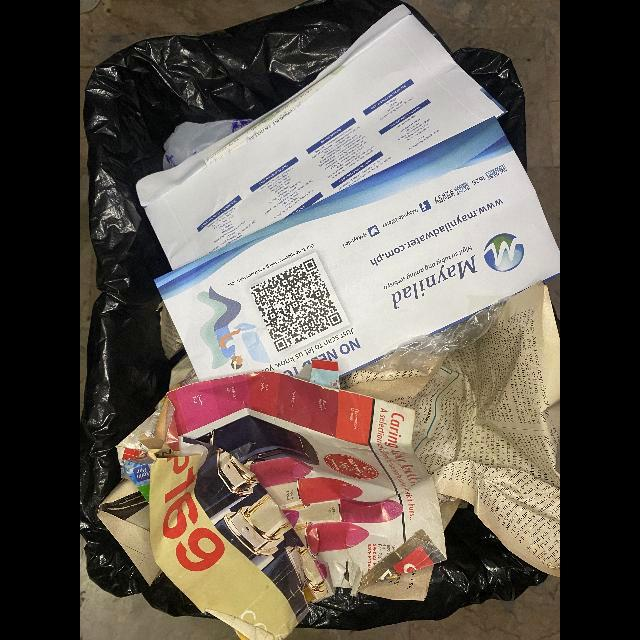paper: (154, 115, 560, 426), (136, 4, 508, 305), (139, 370, 447, 640), (344, 285, 560, 577)
